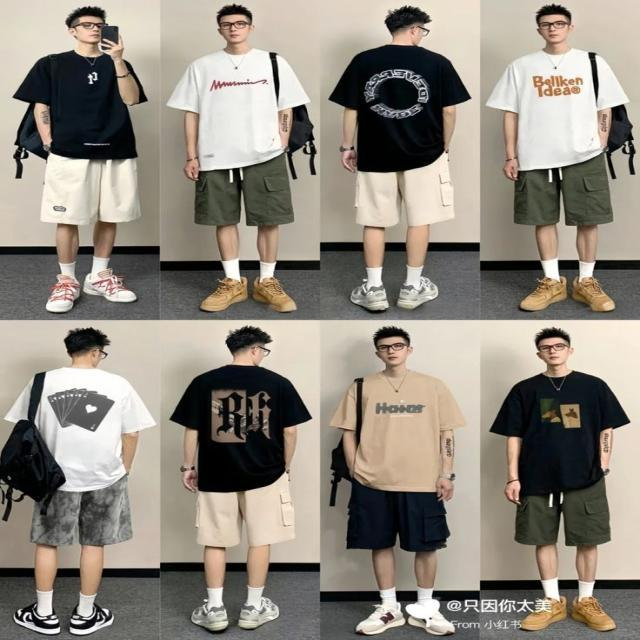person: (1, 327, 156, 636), (484, 3, 630, 313), (166, 3, 312, 313), (326, 4, 472, 312), (168, 324, 312, 632), (488, 326, 630, 632), (328, 325, 466, 636), (11, 5, 148, 313)
